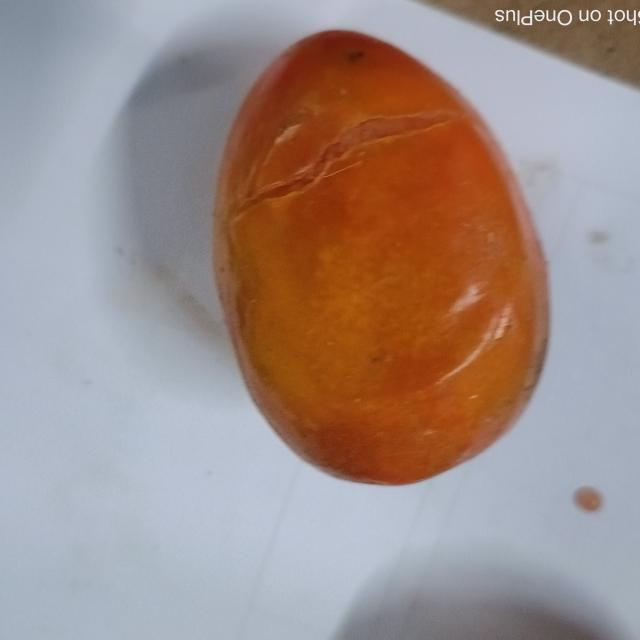Botrytis: (222, 107, 474, 218)
